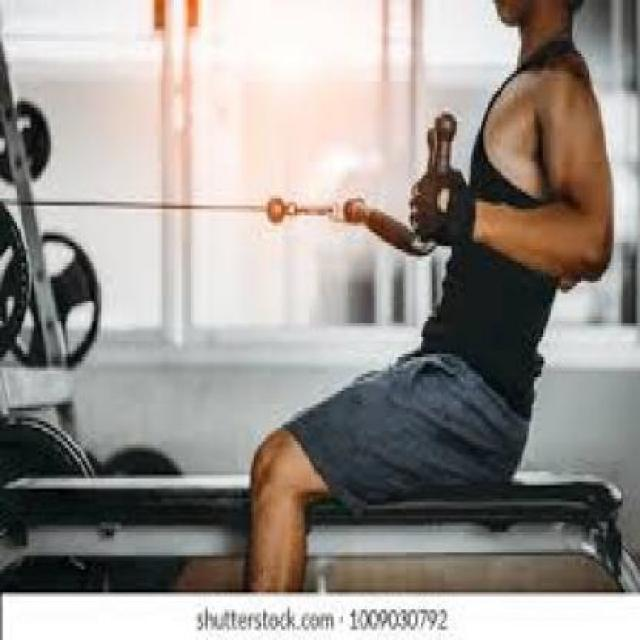Seated Cable Rows: (3, 4, 628, 598)
